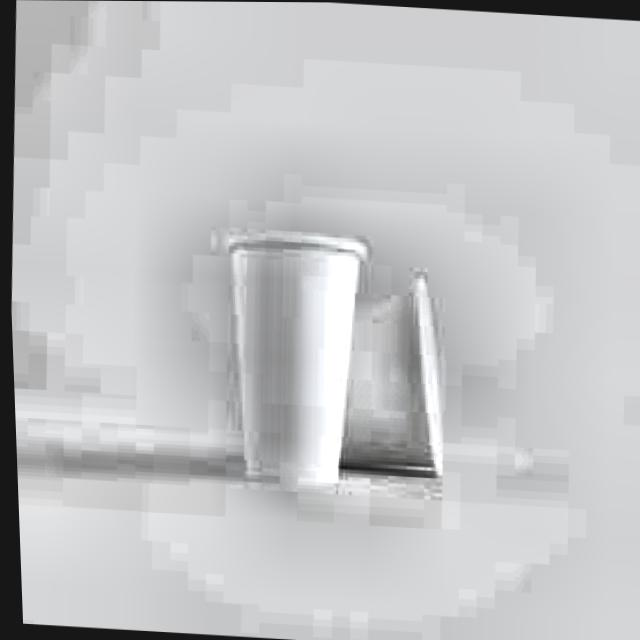Cup: (203, 218, 370, 498), (292, 258, 460, 487)
